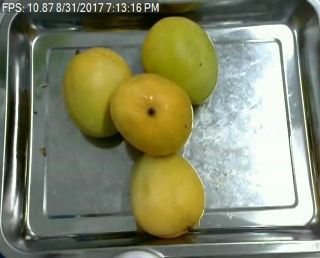Mango: (139, 14, 223, 107), (127, 147, 211, 239), (108, 70, 193, 155), (60, 43, 136, 137)
